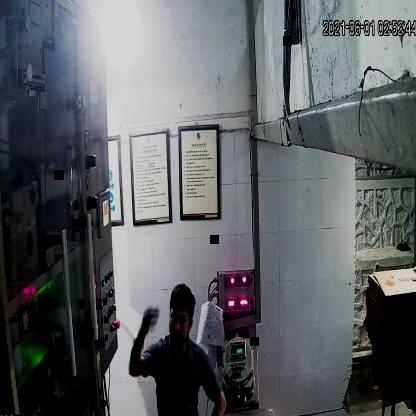no_goggles: (166, 308, 195, 329)
